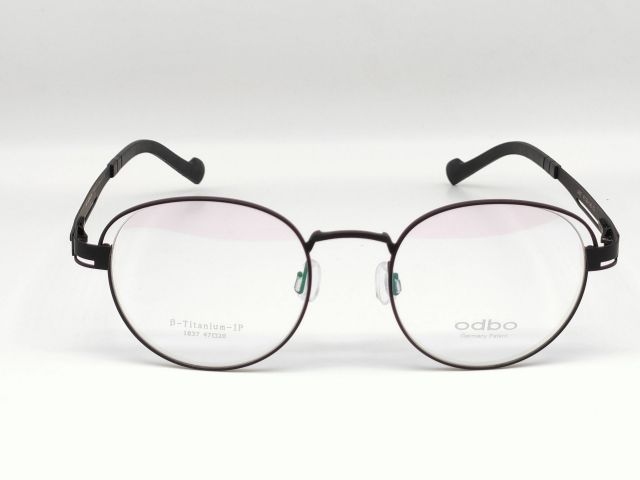glass: (67, 133, 626, 375)
